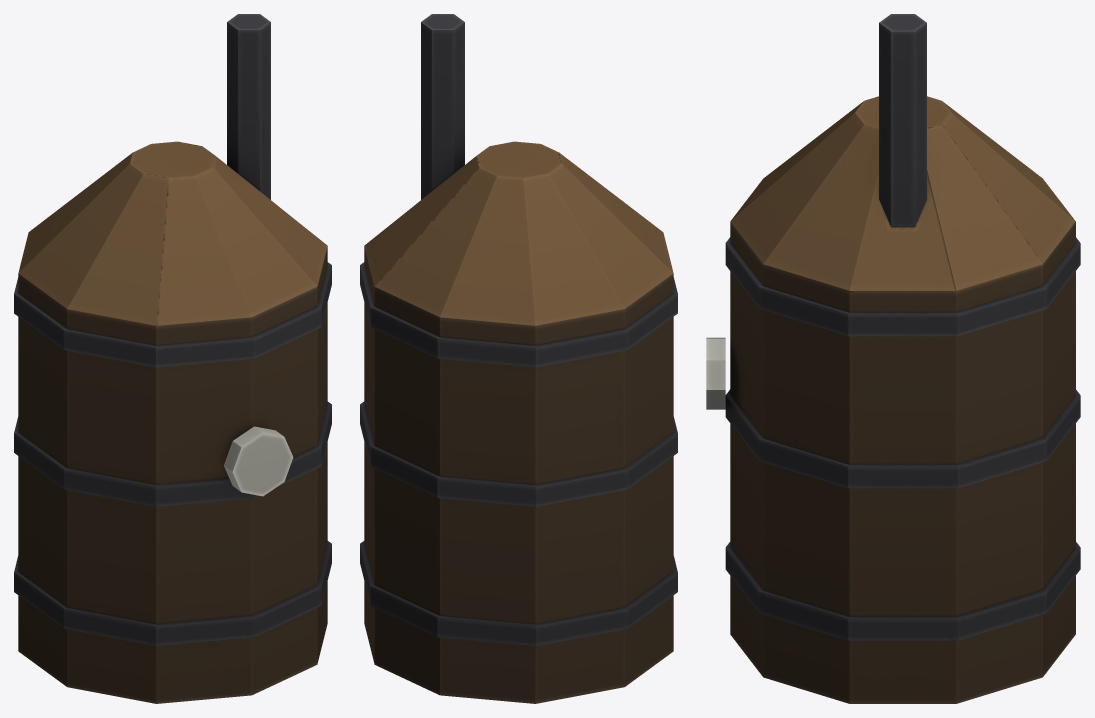
File: rock_boiler.glb
The picture shows the model from 3 angles, left to right: view 1: azimuth 30°, elevation 25°; view 2: azimuth 150°, elevation 25°; view 3: azimuth 270°, elevation 25°; orthographic projection. The views are drawn at different scales.
Visible parts, largest first — view 1: rock_boiler; view 2: rock_boiler; view 3: rock_boiler.
Boxes of the visible parts, x1,y1,x2,y2 form: rock_boiler: (14,14,331,703); rock_boiler: (360,14,677,703); rock_boiler: (706,14,1080,703).
Size of the model in its own units: 0.7038 by 1.5 by 0.78.
1 material, 1 textured.
